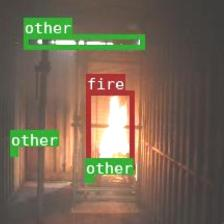fire: (85, 90, 134, 169)
